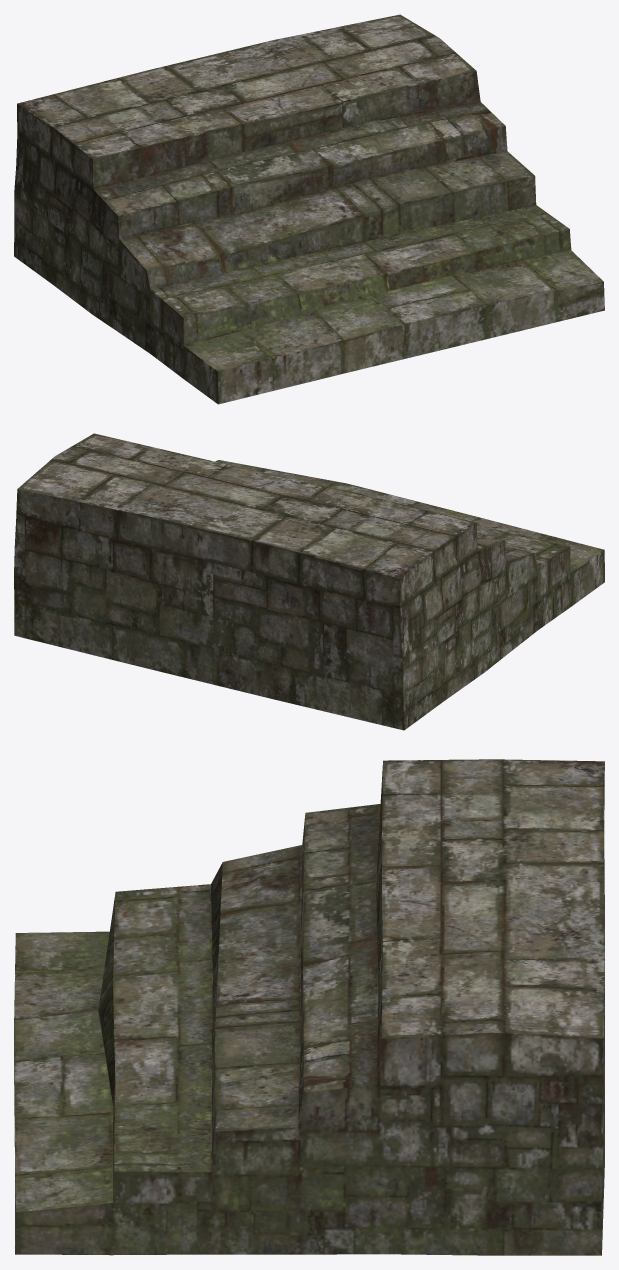
Rendered from Staircase.fbx.
3 views of the same model, one above another, from view 1: azimuth 30°, elevation 25°; view 2: azimuth 150°, elevation 25°; view 3: azimuth 270°, elevation 25° (orthographic). The views are drawn at different scales.
Parts seen in each view (by area): view 1: Staircase; view 2: Staircase; view 3: Staircase.
Part boxes in pixels (<box>): Staircase: <box>14,14,604,404</box>; Staircase: <box>14,433,604,730</box>; Staircase: <box>14,759,604,1255</box>.
Bounding box in the file's own units: 3.25 × 1.23 × 2.94.
